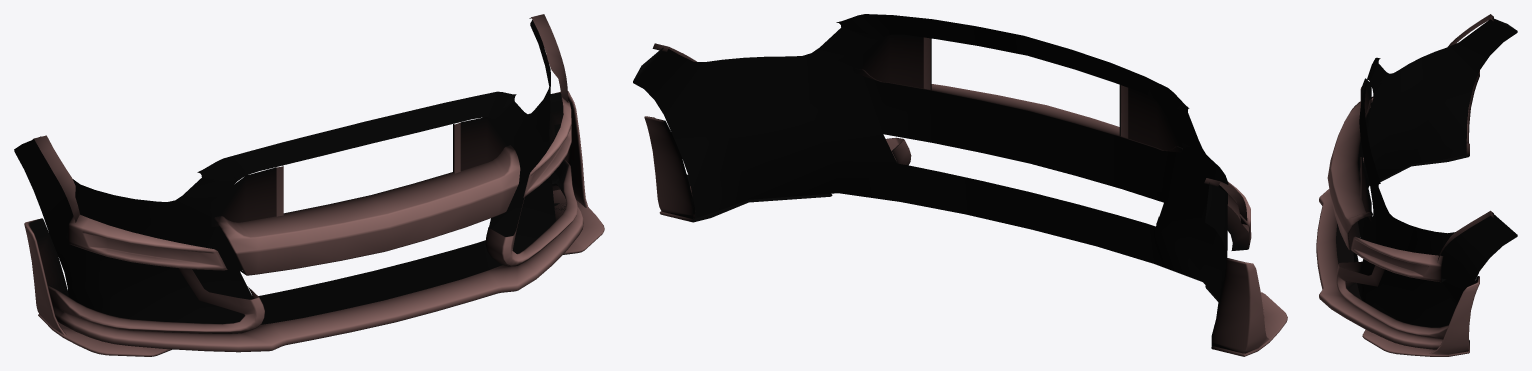
The model's file is Mustang16_FB_GT_Trim.fbx.
The picture shows the model from 3 angles, left to right: view 1: azimuth 30°, elevation 25°; view 2: azimuth 150°, elevation 25°; view 3: azimuth 270°, elevation 25°; orthographic projection. The views are drawn at different scales.
Visible parts, largest first — view 1: Mustang16_FB_GT_Trim; view 2: Mustang16_FB_GT_Trim; view 3: Mustang16_FB_GT_Trim.
Boxes of the visible parts, x1,y1,x2,y2 form: Mustang16_FB_GT_Trim: (14,14,604,356); Mustang16_FB_GT_Trim: (633,14,1287,356); Mustang16_FB_GT_Trim: (1316,14,1517,356).
Bounding box in the file's own units: 193 × 61.98 × 76.5.
